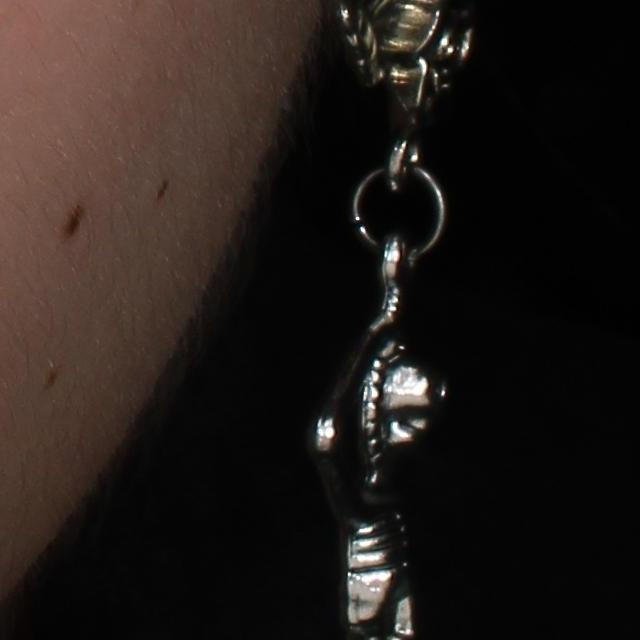nevus: (67, 205, 83, 237)
